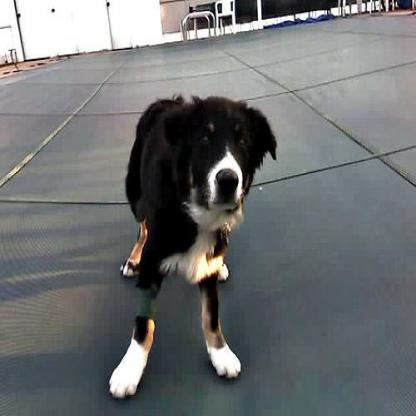Border_collie: (106, 88, 280, 398)
